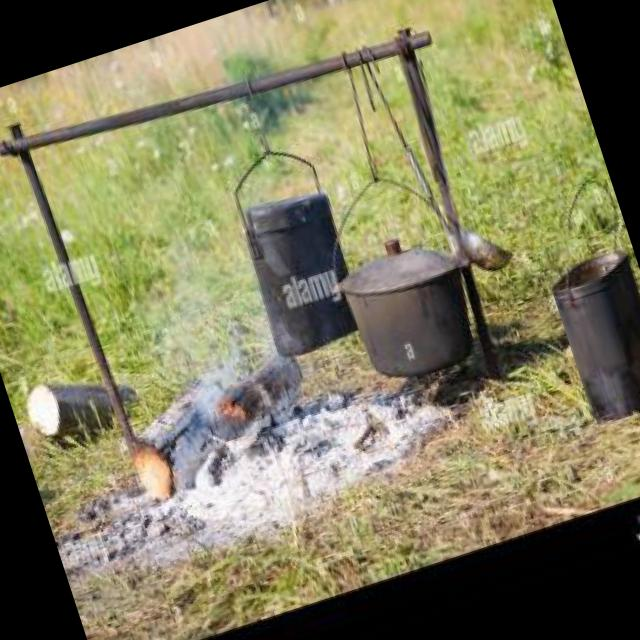fire: (215, 388, 262, 436)
smoke: (124, 215, 262, 420)
